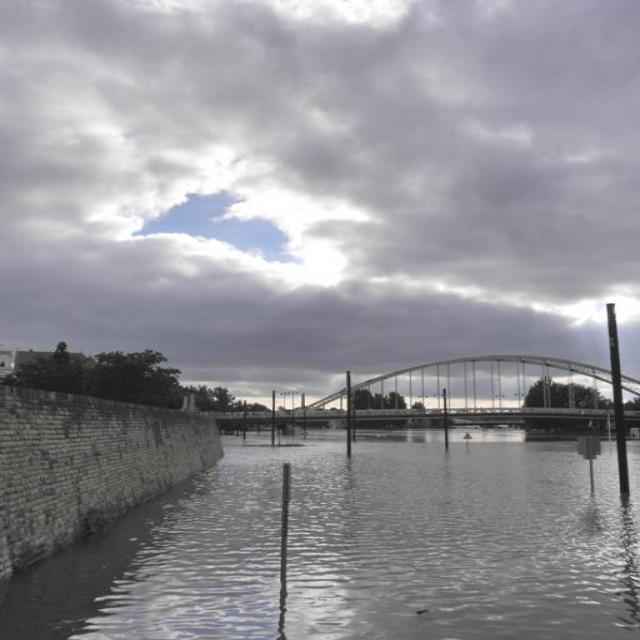flood: (0, 421, 639, 639)
